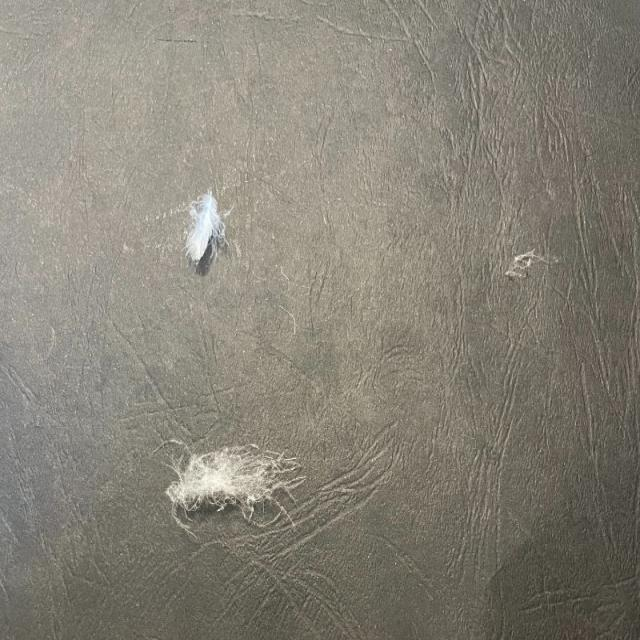feather: (154, 436, 308, 531), (184, 186, 218, 263), (508, 248, 546, 280)
